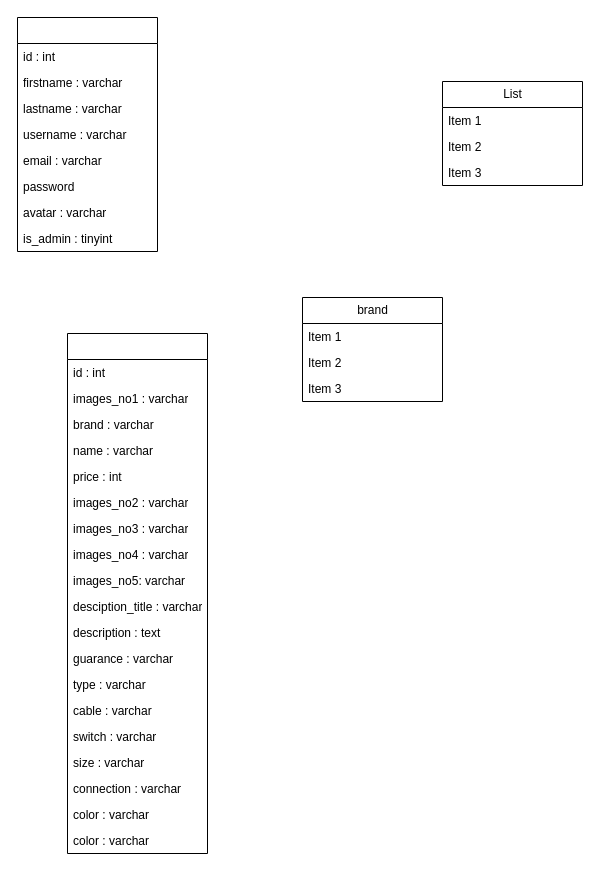
This 600x874 diagram has some shape labels left out. Here are the shapes that lost their labels. From the top down, the box of each, then its label:
(16, 16, 158, 252): users
(66, 332, 208, 854): products
